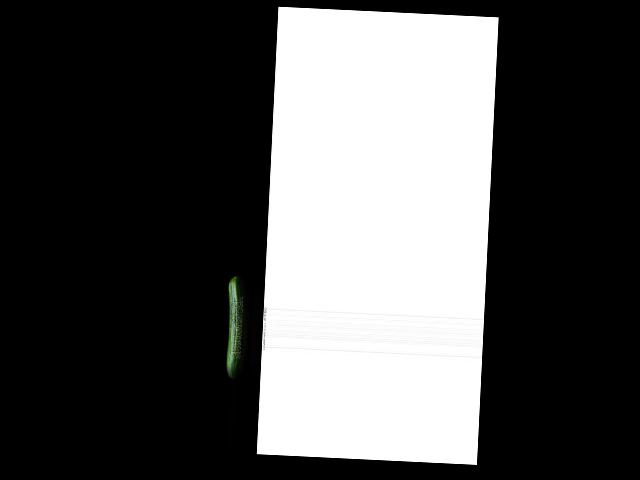cucumber: (225, 275, 245, 378)
